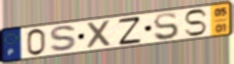0: (26, 28, 48, 57)
S: (48, 25, 80, 54), (152, 11, 181, 42), (183, 8, 209, 38)
X: (86, 18, 114, 51)
Z: (117, 15, 143, 46)
